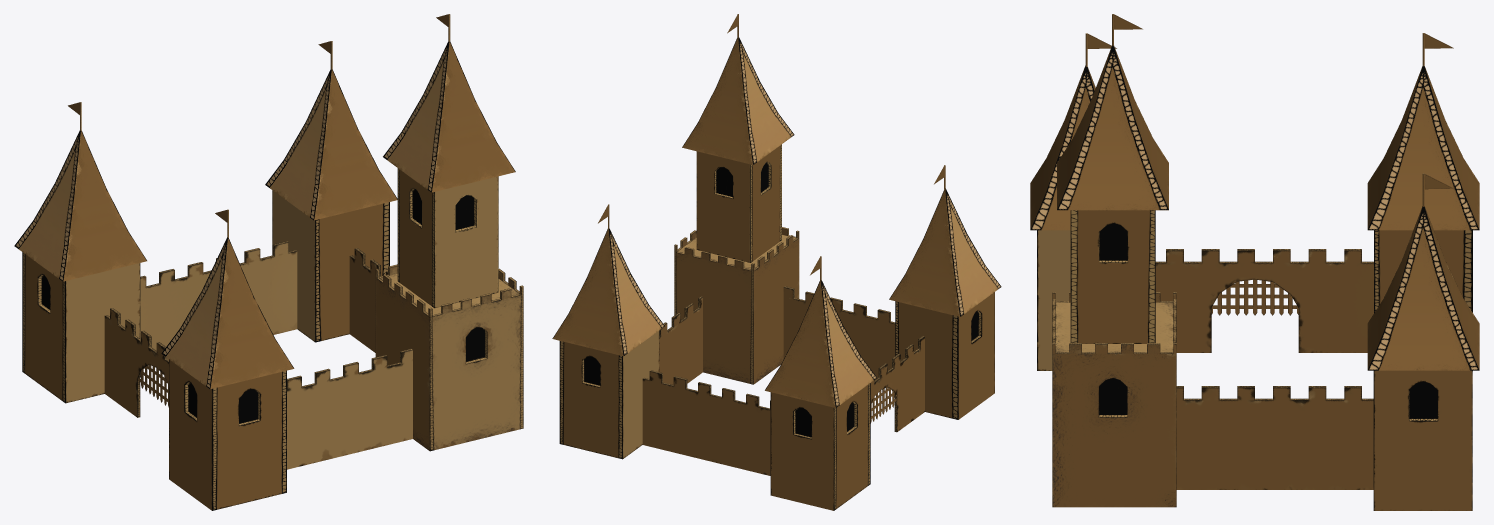
Rendered from SM_Castle.fbx.
3 renders of one model, left to right at view 1: azimuth 30°, elevation 25°; view 2: azimuth 150°, elevation 25°; view 3: azimuth 270°, elevation 25°, orthographic. The views are drawn at different scales.
Parts seen in each view (by area): view 1: Cube, Cube.004, Cube.001, Cube.002, Cube.005, Cube.003, Cube.008, Cube.025, Cube.009, Cube.007, Cube.020; view 2: Cube, Cube.004, Cube.002, Cube.003, Cube.001, Cube.005, Cube.007, Cube.008, Cube.009, Cube.025, Cube.020; view 3: Cube, Cube.004, Cube.003, Cube.005, Cube.007, Cube.025, Cube.008, Cube.002, Cube.009, Cube.001, Cube.020.
Boxes of the visible parts, x1,y1,x2,y2 form: Cube: [104, 241, 412, 469]; Cube.004: [375, 264, 523, 451]; Cube.001: [169, 359, 286, 510]; Cube.002: [22, 252, 140, 403]; Cube.005: [397, 168, 498, 308]; Cube.003: [272, 190, 389, 342]; Cube.008: [14, 130, 146, 281]; Cube.025: [265, 69, 397, 220]; Cube.009: [161, 237, 294, 389]; Cube.007: [383, 41, 515, 192]; Cube.020: [138, 364, 168, 407]; Cube: [642, 286, 924, 475]; Cube.004: [674, 227, 799, 384]; Cube.002: [770, 383, 870, 510]; Cube.003: [559, 331, 659, 459]; Cube.001: [895, 292, 994, 419]; Cube.005: [696, 144, 781, 262]; Cube.007: [682, 37, 794, 164]; Cube.008: [765, 280, 876, 407]; Cube.009: [889, 188, 1001, 316]; Cube.025: [552, 228, 664, 356]; Cube.020: [870, 387, 896, 423]; Cube: [1155, 249, 1373, 489]; Cube.004: [1052, 292, 1176, 507]; Cube.003: [1373, 370, 1472, 510]; Cube.005: [1070, 210, 1155, 343]; Cube.007: [1057, 45, 1168, 210]; Cube.025: [1367, 206, 1479, 370]; Cube.008: [1367, 66, 1479, 230]; Cube.002: [1374, 230, 1472, 312]; Cube.009: [1030, 65, 1095, 230]; Cube.001: [1037, 230, 1070, 370]; Cube.020: [1211, 279, 1298, 315].
Size of the model in its own units: 24453 by 28317 by 24732.
